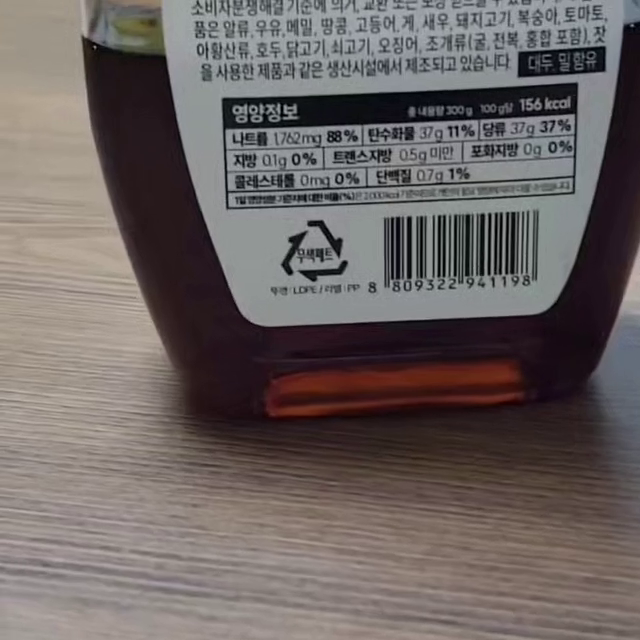ColorlessPet: (282, 217, 351, 280)
